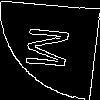M: (25, 24, 79, 72)
